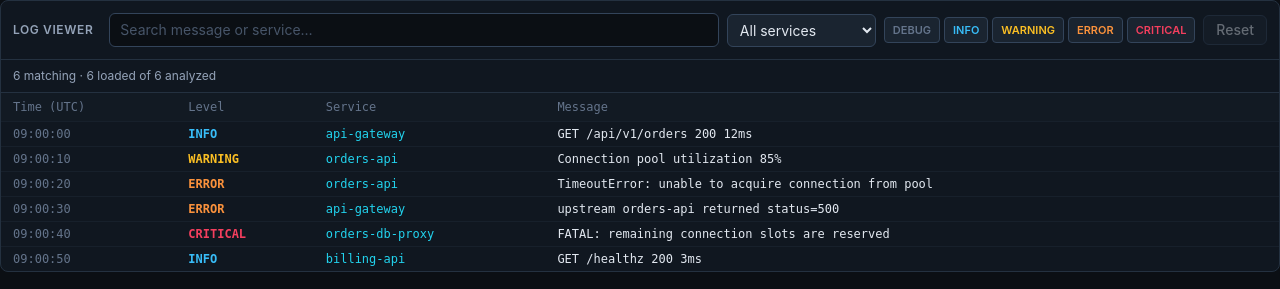
Scenario: LogViewer › filters by service and resets
Step 1. Select "orders-api" in the dropdown named "Filter by service" → (801, 30), box [727, 14, 876, 46]
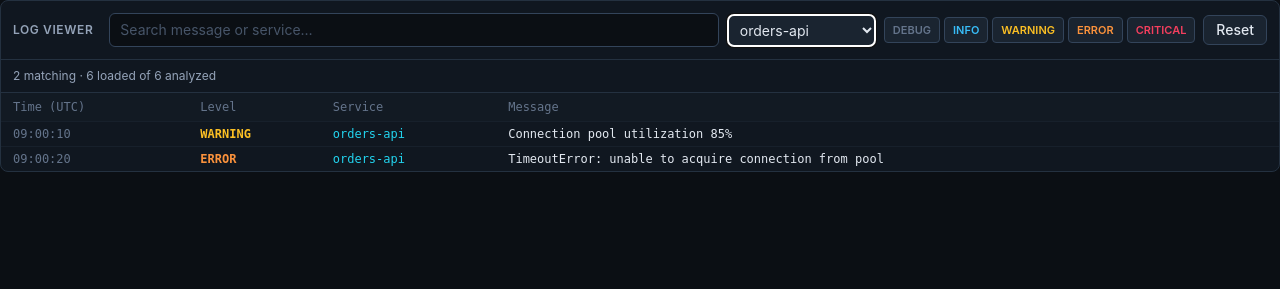
Expected: the number of rows with test id "log-row" is 2, [1, 122, 1279, 146]; [1, 146, 1279, 171]
Step 2. Click the button "Reset" → (1235, 30), box [1203, 15, 1267, 45]
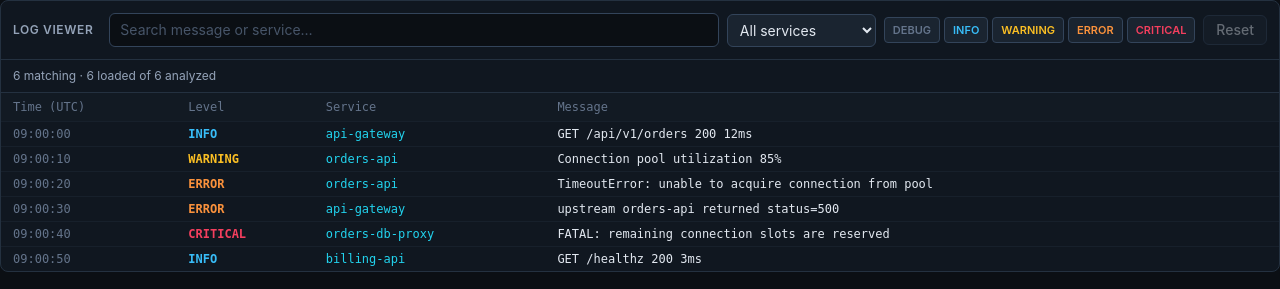
Expected: the number of rows with test id "log-row" is 6, [1, 122, 1279, 146]; [1, 146, 1279, 172]; [1, 172, 1279, 196]; [1, 196, 1279, 222]; [1, 222, 1279, 246]; [1, 246, 1279, 271]
Expected: the button "Reset" is disabled, [1203, 15, 1267, 45]
